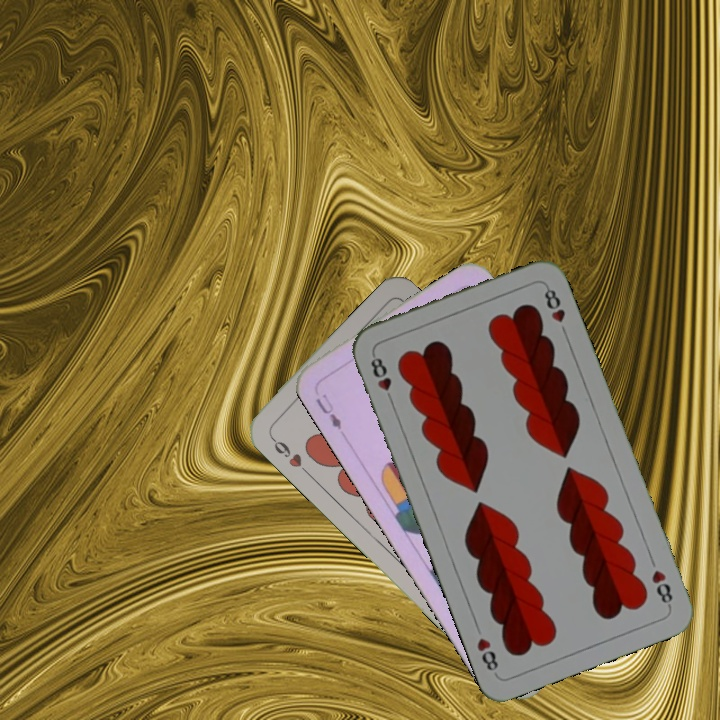EU: (311, 389, 347, 438)
H8: (366, 349, 397, 406), (647, 565, 676, 610)
H9: (265, 431, 312, 477)
